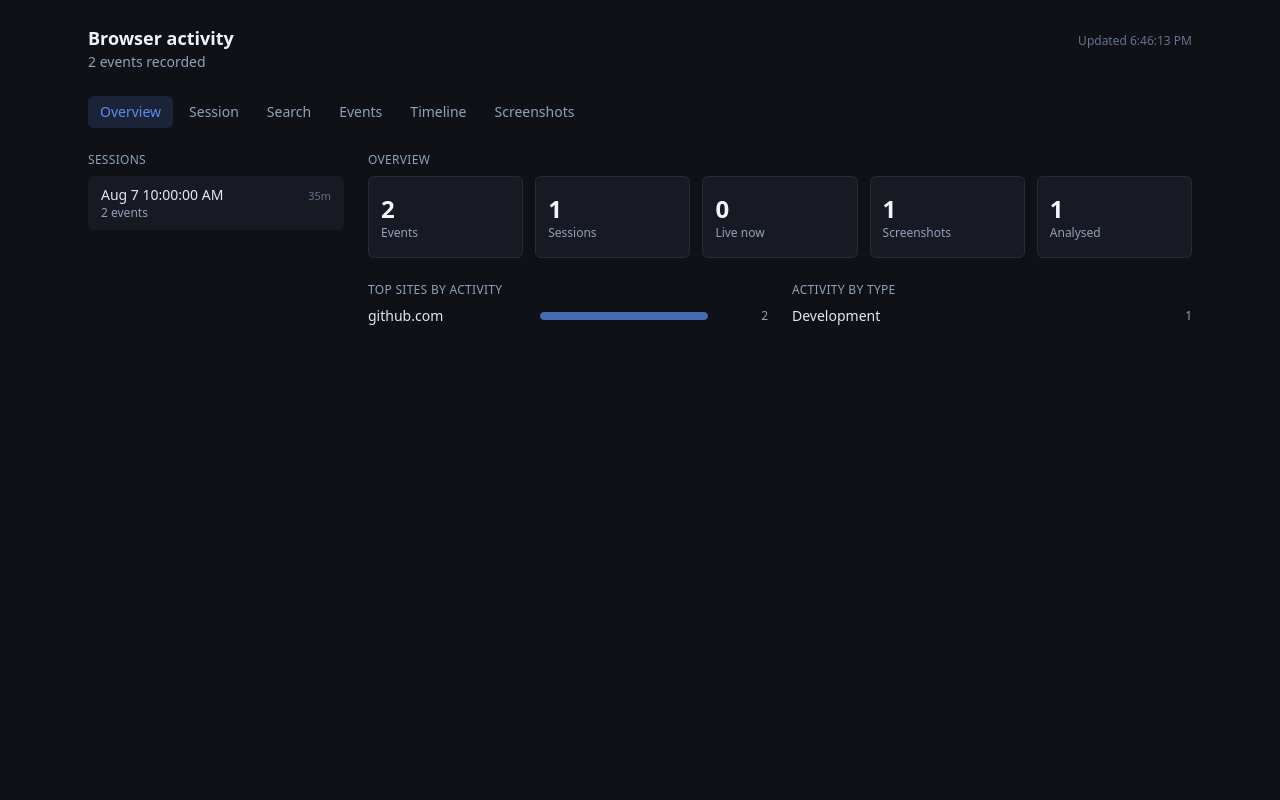
Test case: screenshots view › shows the image, OCR text and AI understanding
The image size is (1280, 800).
Expected: the text "github.com" is shown, [368, 306, 443, 325]
Click the button "Screenshots" at (534, 112), box [482, 96, 586, 128]
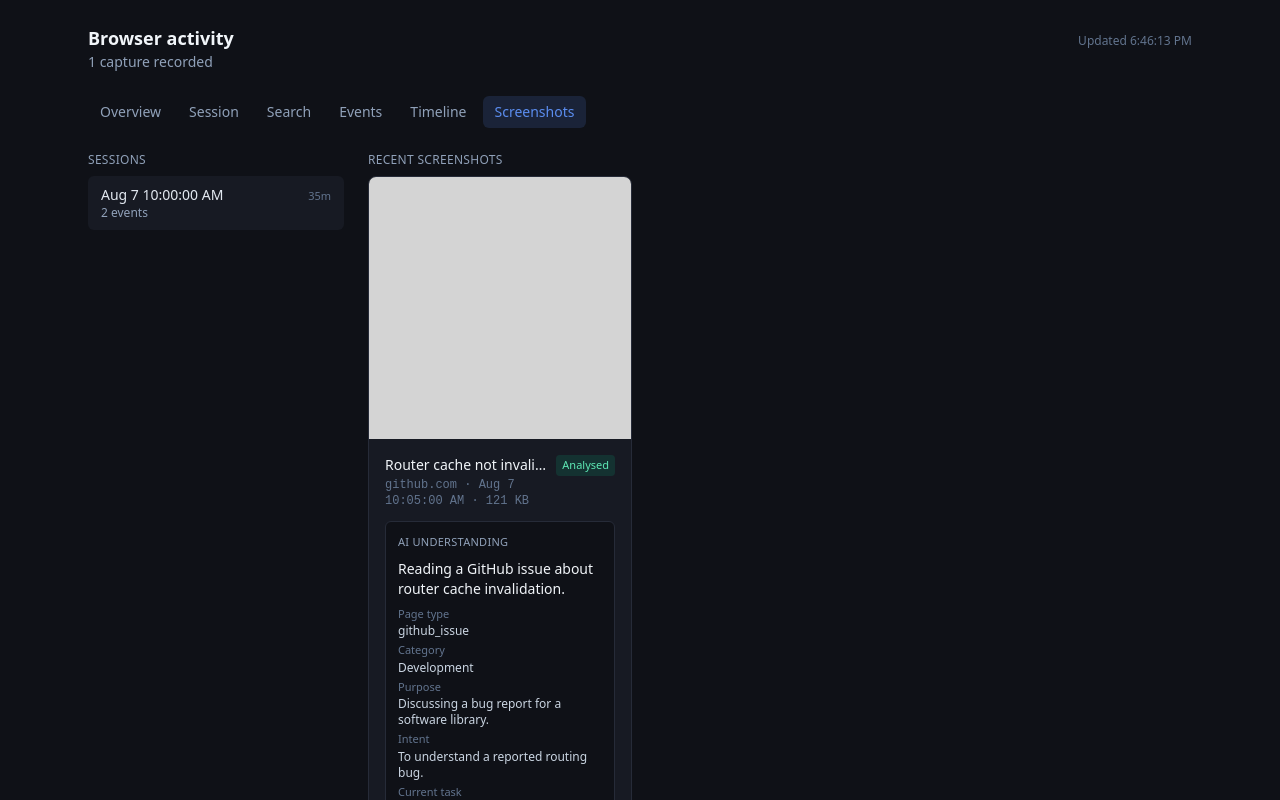
Expected: the text "1 capture recorded" is shown, [88, 52, 234, 72]
Expected: the heading "AI understanding" is shown, [398, 534, 508, 549]
Expected: the text "Reading a GitHub issue about router cache invalidation." is shown, [398, 558, 602, 598]
